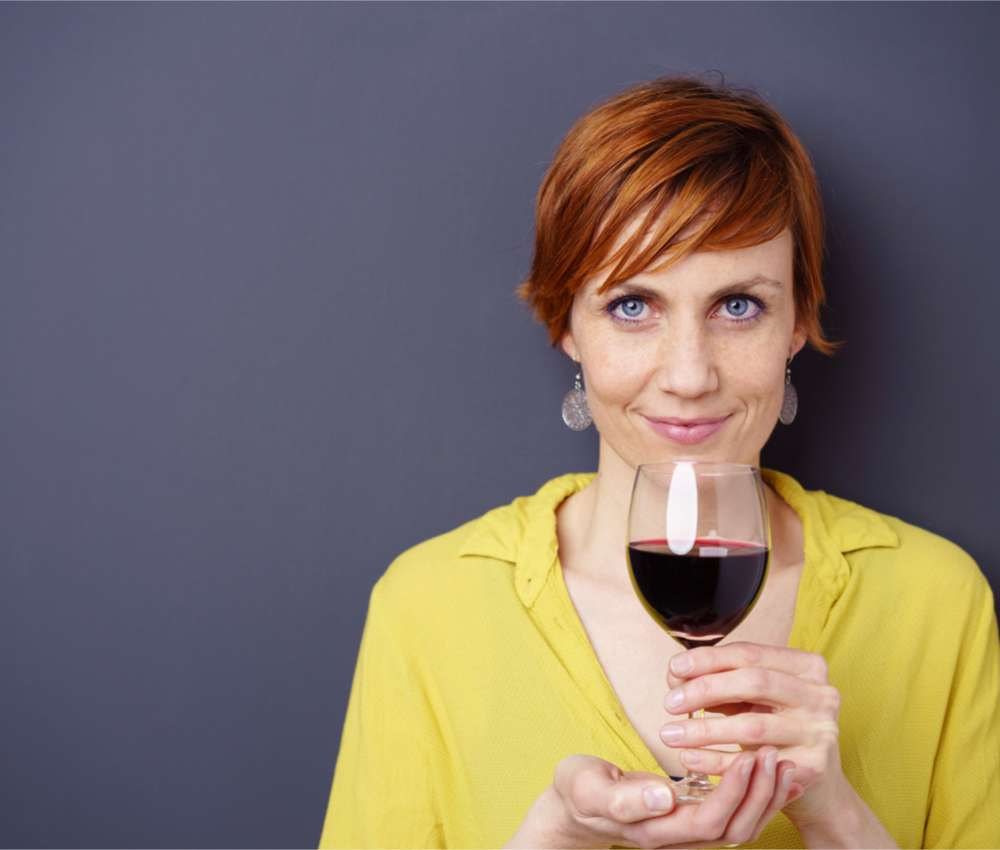without_mask: (578, 249, 782, 483)
